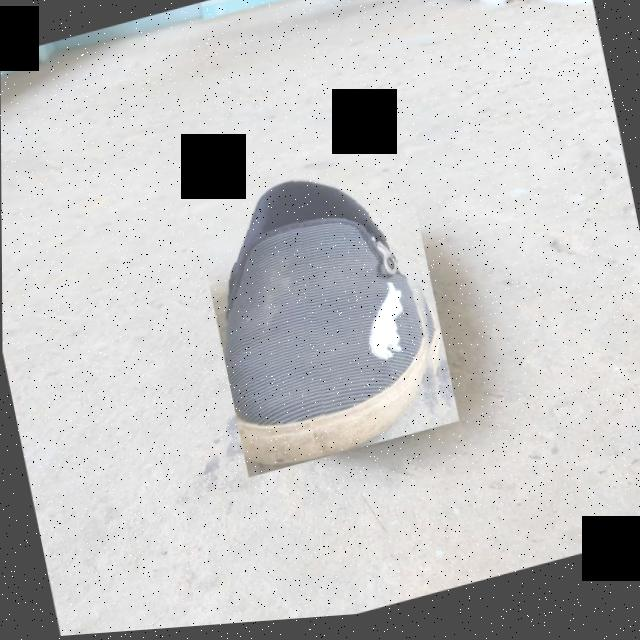shoe: (192, 151, 459, 484)
